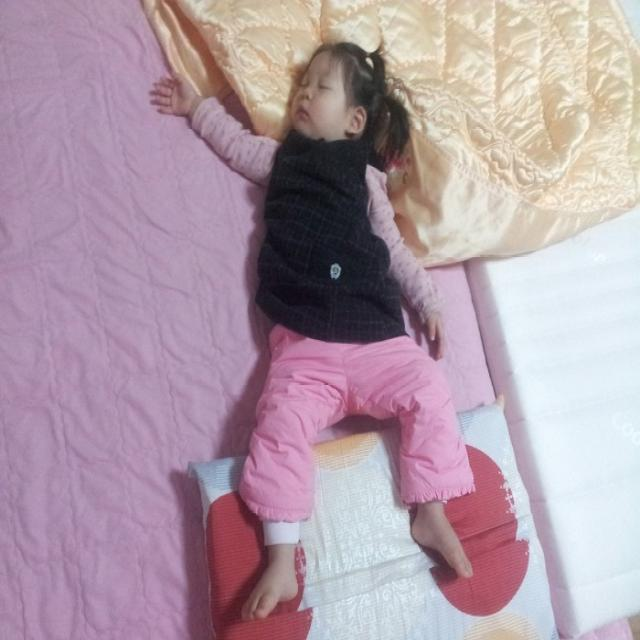people: (142, 31, 479, 624)
